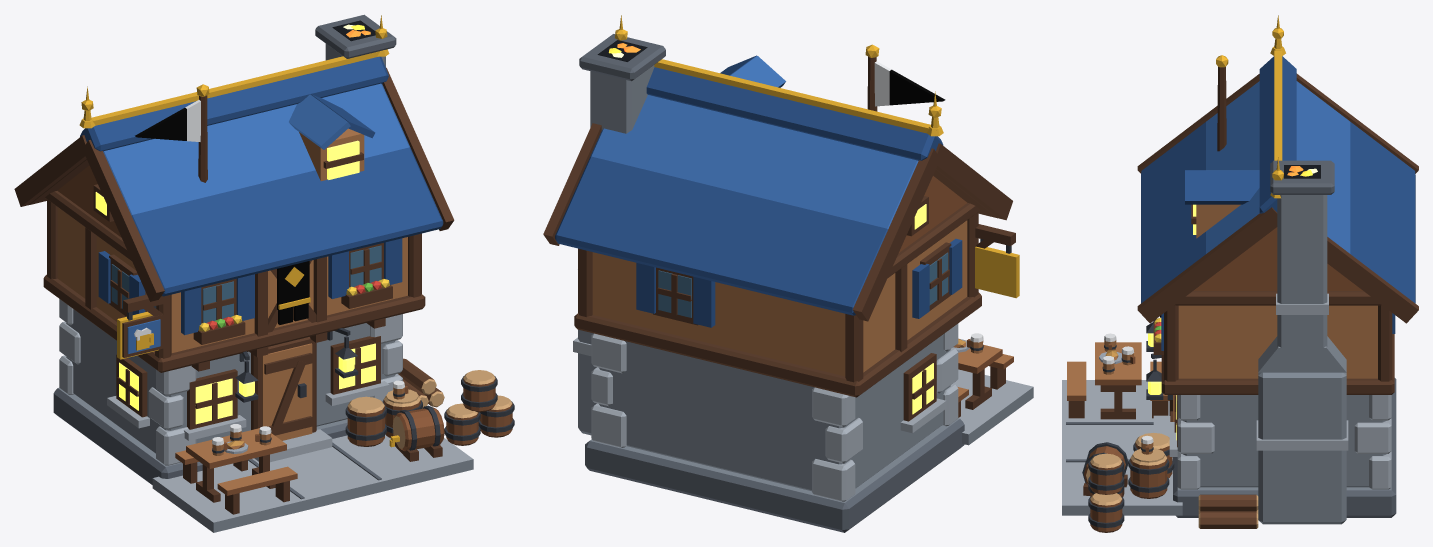
Rendered from Bld_Tavern_L3.fbx.
3 renders of one model, left to right at view 1: azimuth 30°, elevation 25°; view 2: azimuth 150°, elevation 25°; view 3: azimuth 270°, elevation 25°, orthographic. The views are drawn at different scales.
Parts seen in each view (by area): view 1: Bld_Tavern_L3; view 2: Bld_Tavern_L3; view 3: Bld_Tavern_L3.
Boxes of the visible parts, bbox=[...] form: Bld_Tavern_L3: bbox=[14, 14, 514, 532]; Bld_Tavern_L3: bbox=[543, 15, 1033, 532]; Bld_Tavern_L3: bbox=[1062, 15, 1418, 532].
Size of the model in its own units: 5.13 by 5.17 by 4.44.
